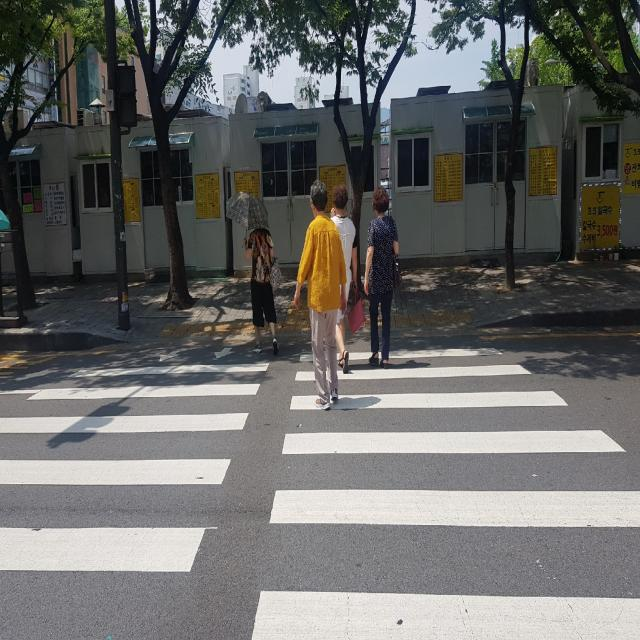횡단보도: (0, 342, 640, 640)
